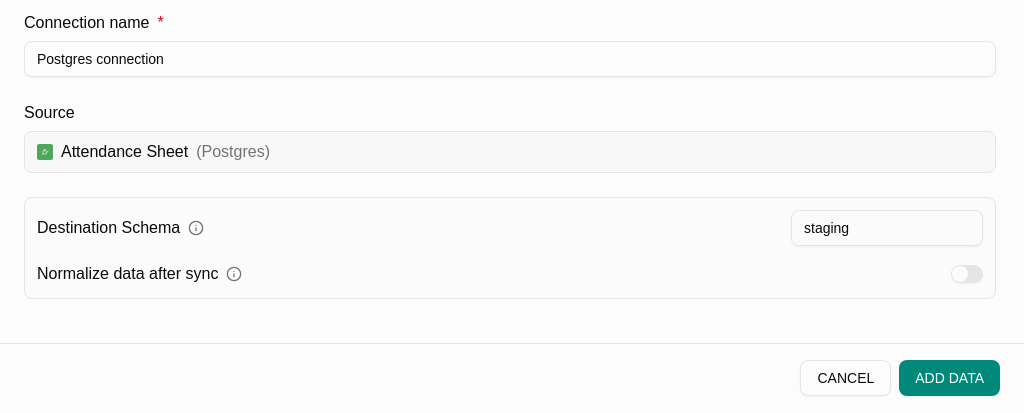
Test case: ConnectionFormBody split help + custom view › briefly explains what normalization does
The image size is (1024, 413).
Hover over the button named "About Normalize data after sync": (234, 274) [224,264,244,284]
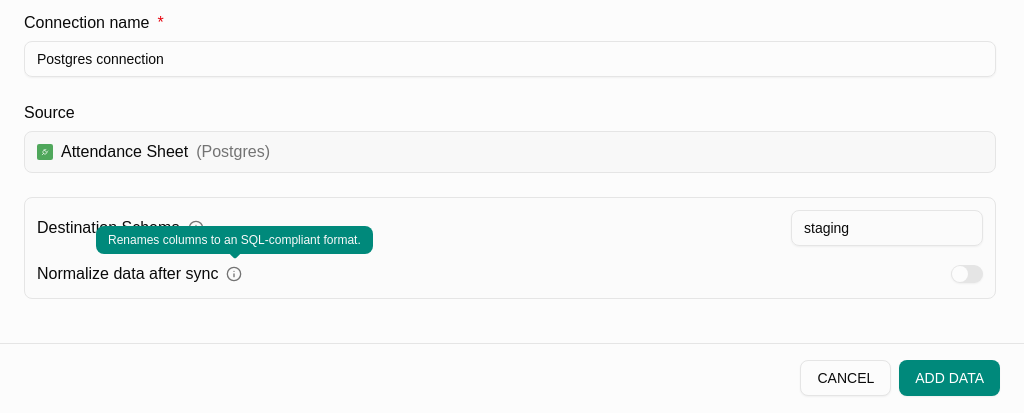
Expected: the tooltip reads "Renames columns to an SQL-compliant format.", [108,233,361,247]
